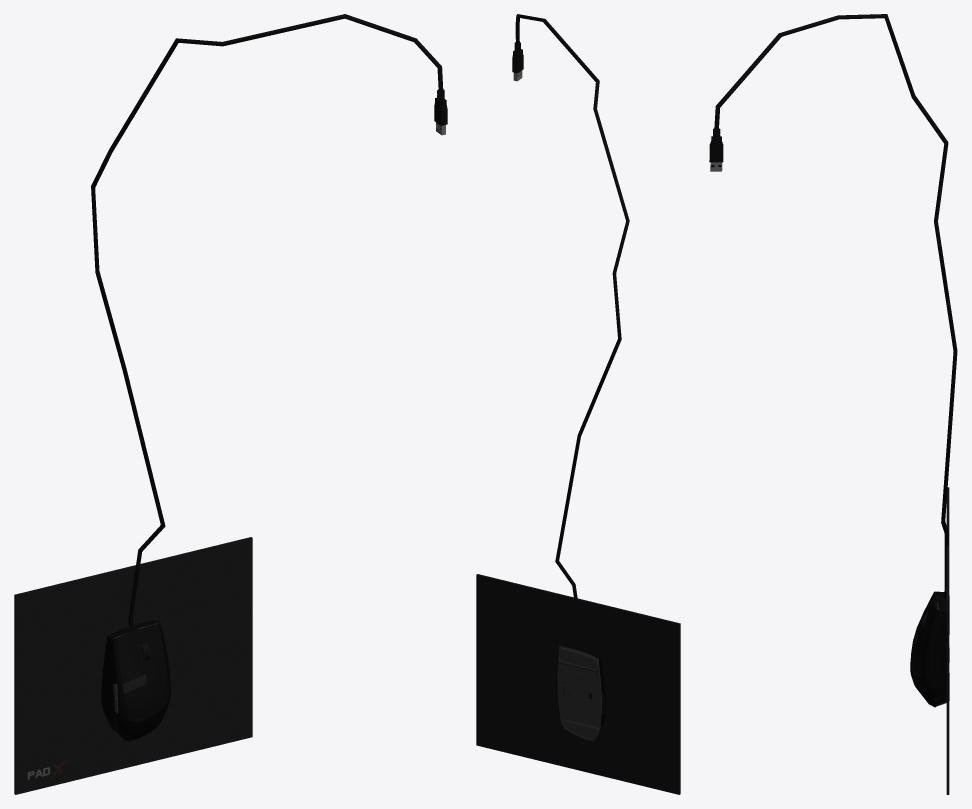
File: mouse_obj.obj
The picture shows the model from 3 angles, left to right: view 1: azimuth 30°, elevation 25°; view 2: azimuth 150°, elevation 25°; view 3: azimuth 270°, elevation 25°; orthographic projection. The views are drawn at different scales.
Visible parts, largest first — view 1: Model__mousepad, Model__mouse; view 2: Model__mousepad, Model__mouse; view 3: Model__mouse, Model__mousepad.
Part boxes in pixels (left/top/right/bottom): Model__mousepad: left=14, top=537, right=252, bottom=794; Model__mouse: left=91, top=14, right=447, bottom=741; Model__mousepad: left=476, top=574, right=680, bottom=794; Model__mouse: left=512, top=14, right=629, bottom=741; Model__mouse: left=709, top=14, right=957, bottom=707; Model__mousepad: left=946, top=487, right=949, bottom=794.
Size of the model in its own units: 182 by 439 by 129.
